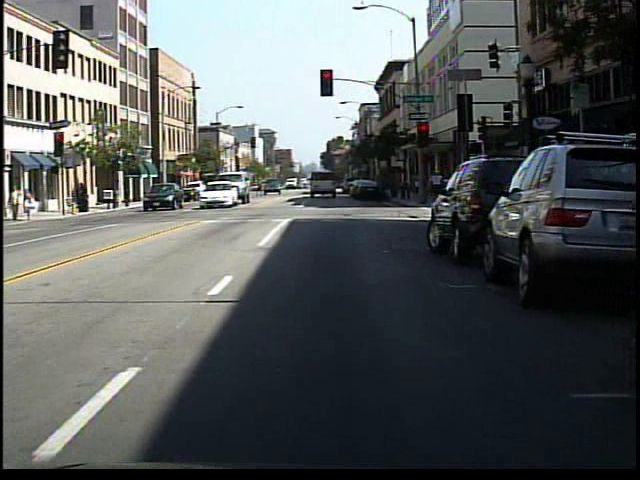person: (426, 166, 446, 205), (9, 183, 27, 226), (21, 185, 39, 220)
